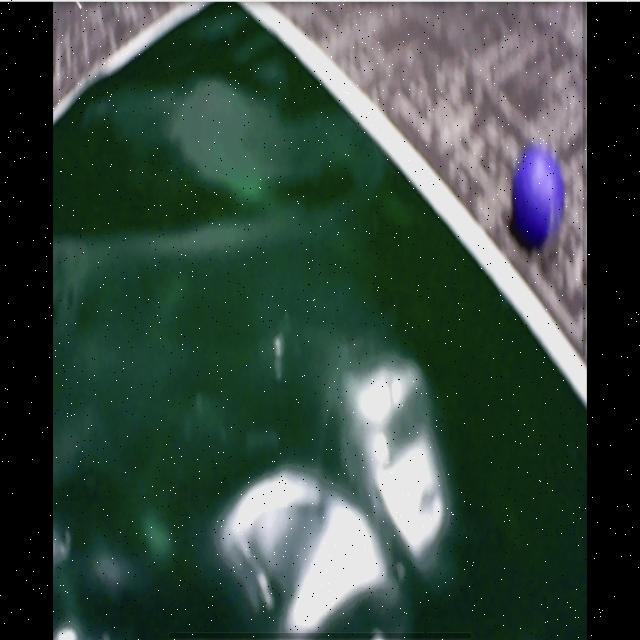ball: (512, 151, 563, 241)
